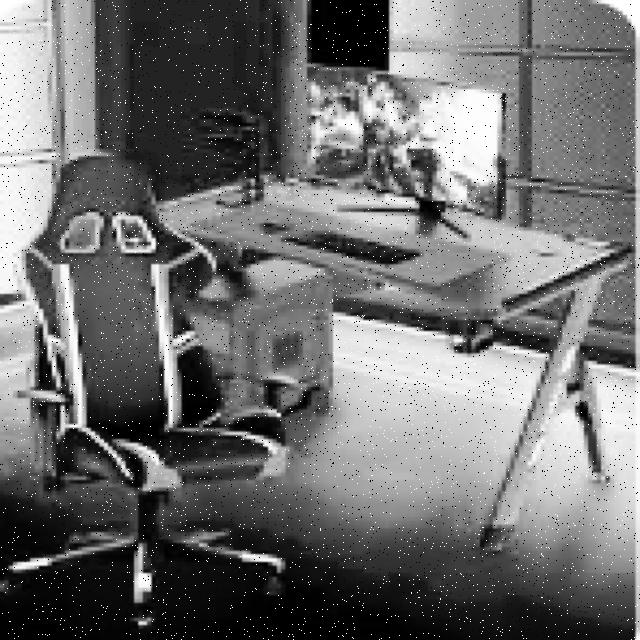book: (4, 152, 294, 629)
table: (173, 182, 631, 551)
